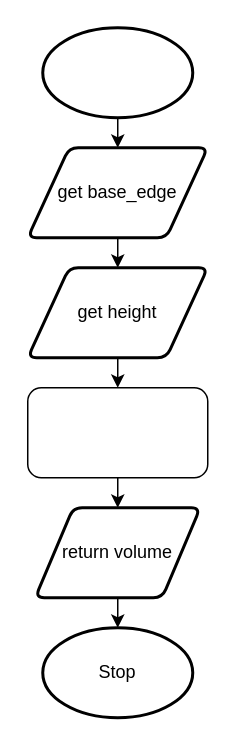
Image size: 234x744. Some labels were removed from this diagram. The shapes that lost their labels are listed below. From the top down, each one's centre as x and y in pixels, then its label:
the point at 117,72: Start
the point at 117,432: volume = (base_edge ** 2) * (height / 3)
